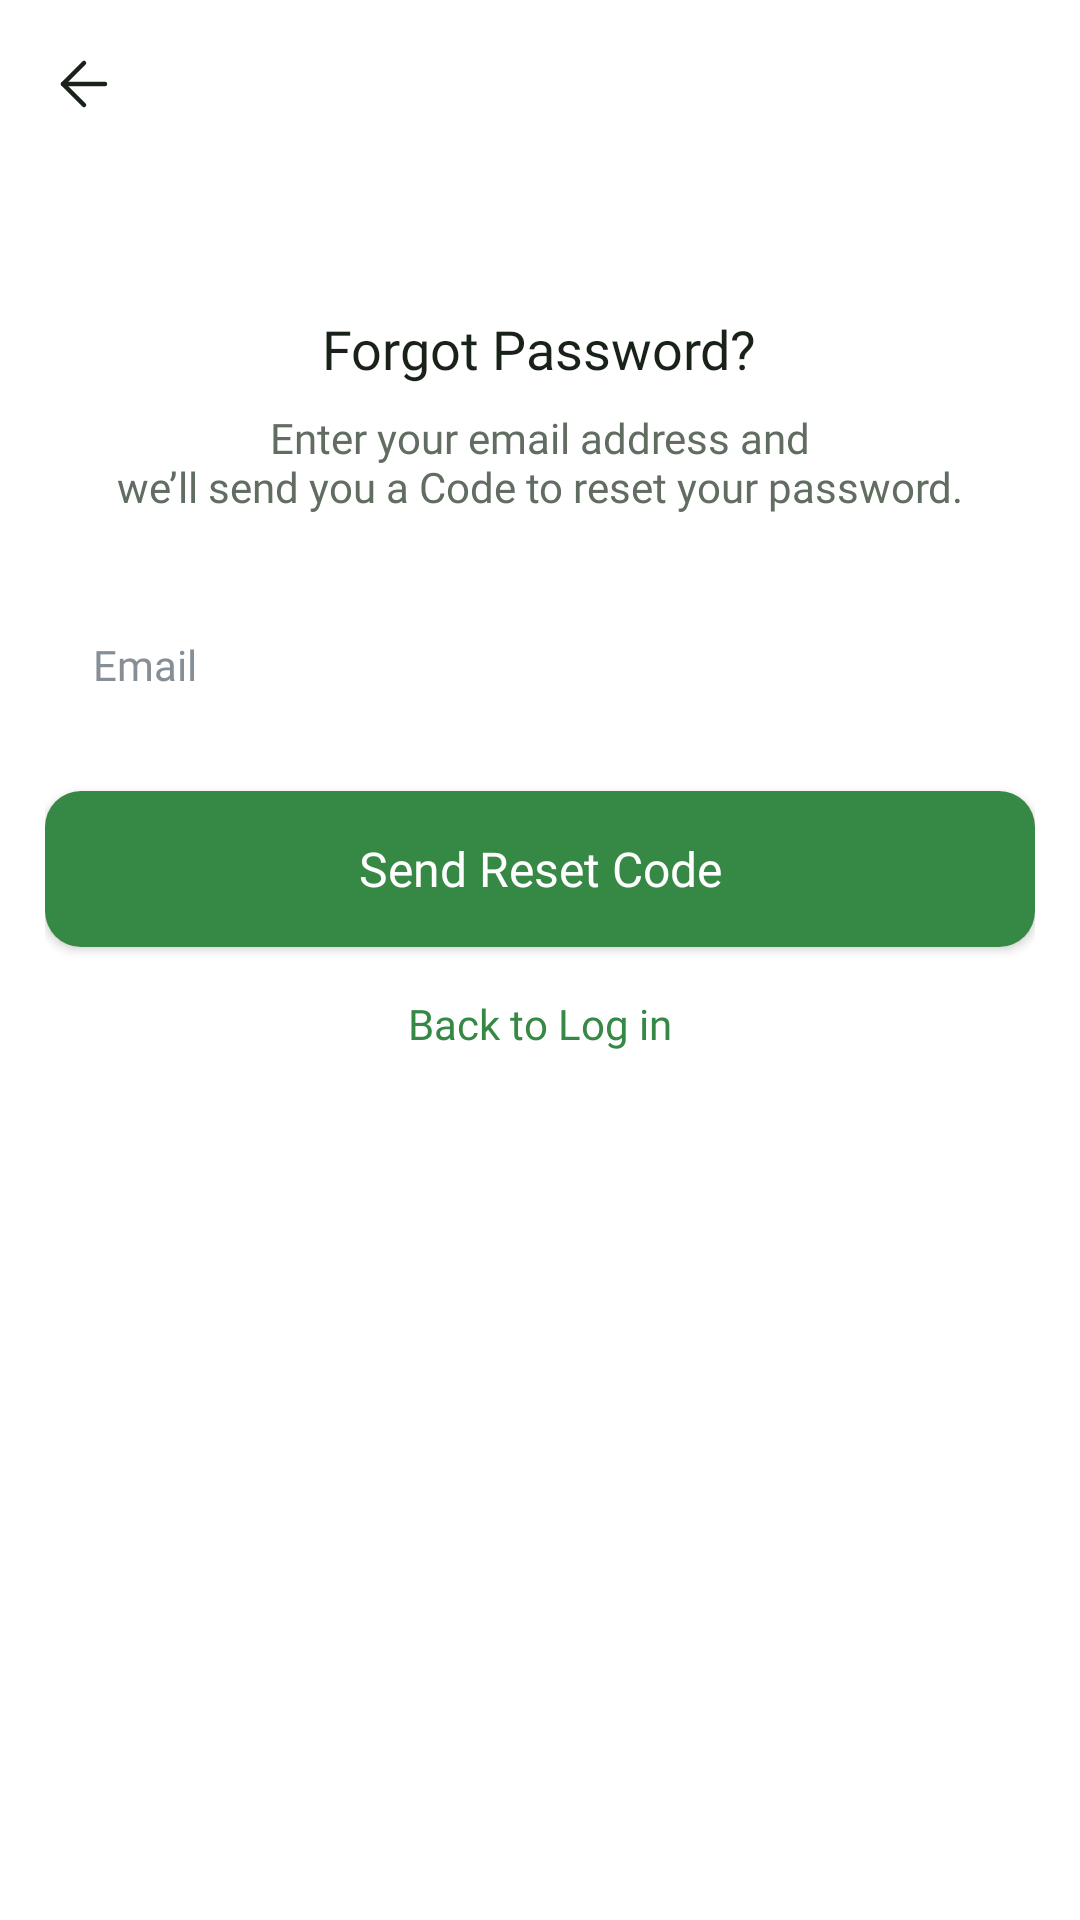

Icons on this 1080×1920 Android screen, each with its box as region(x1, y1, x2, y2):
Back: region(60, 60, 107, 108)
